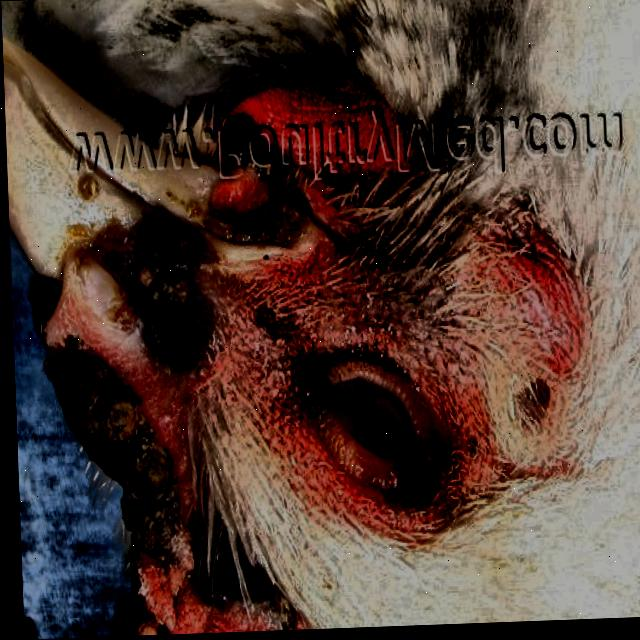Fowlpox: (10, 104, 309, 640)
